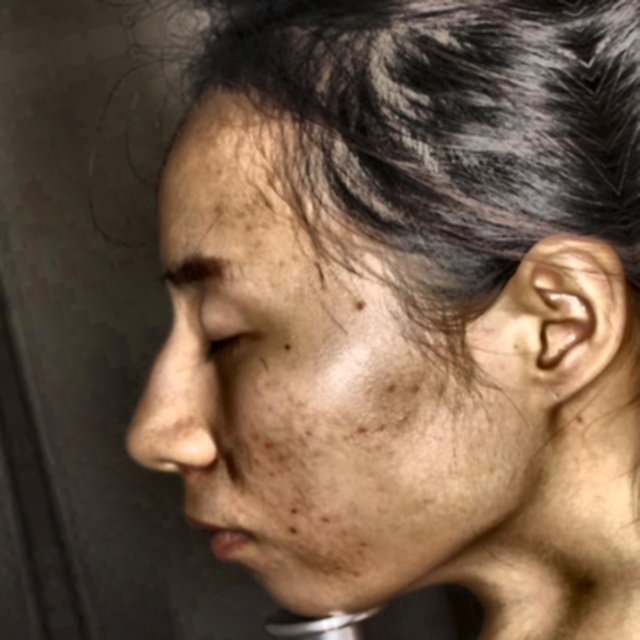comedone: (244, 422, 288, 466), (278, 509, 315, 547)
